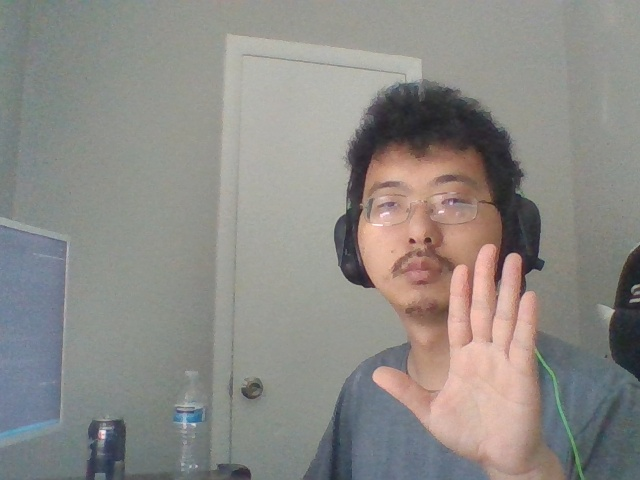ThankYou: (372, 243, 543, 471)
